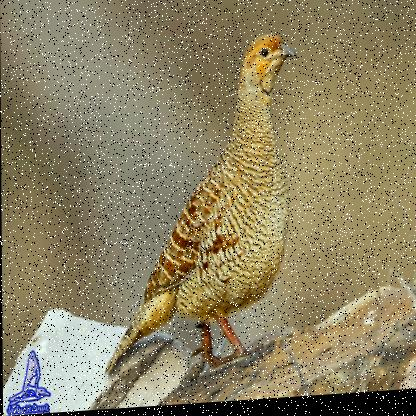Burung: (104, 34, 299, 393)
